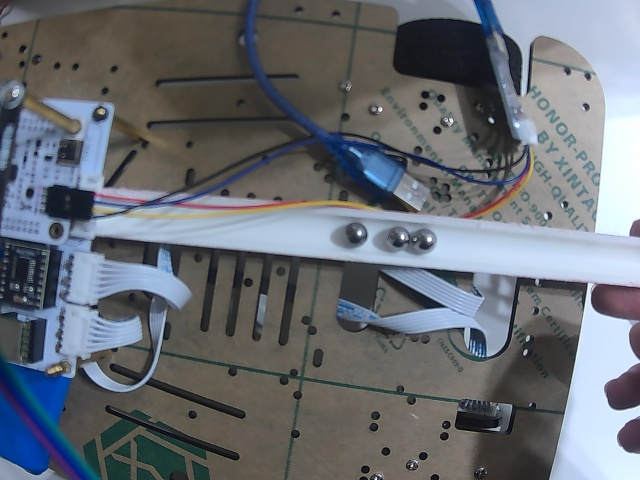steelball: (411, 228, 437, 254), (343, 222, 367, 246), (386, 226, 410, 249)
